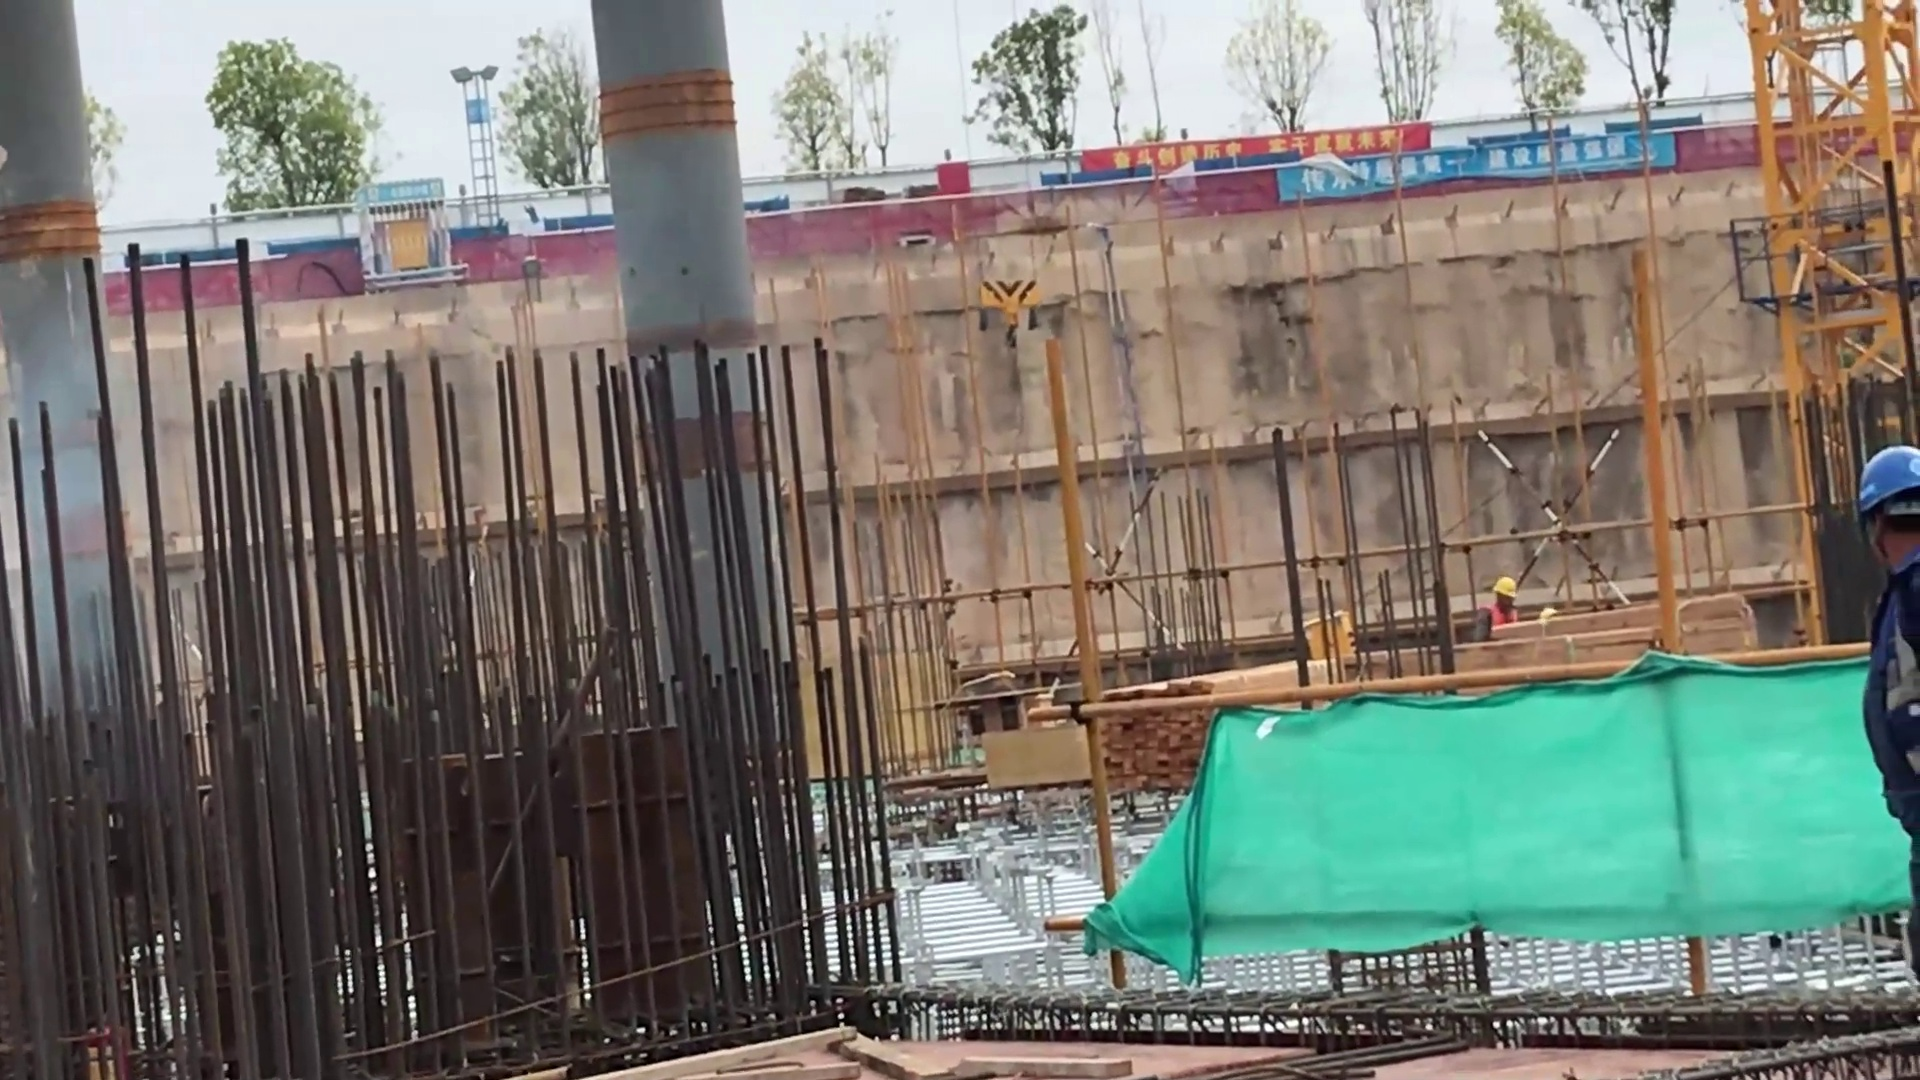ebox: (373, 217, 432, 269), (1305, 608, 1356, 659)
helmet: (1856, 446, 1919, 510), (1492, 578, 1518, 598)
hook: (975, 275, 1044, 350)
person: (1852, 443, 1920, 831), (1474, 576, 1519, 645)
slogan: (1281, 132, 1674, 199), (1081, 124, 1430, 171)
vest: (1868, 556, 1920, 798), (1484, 604, 1519, 625)
wood: (1456, 613, 1753, 668), (1106, 675, 1207, 790)
